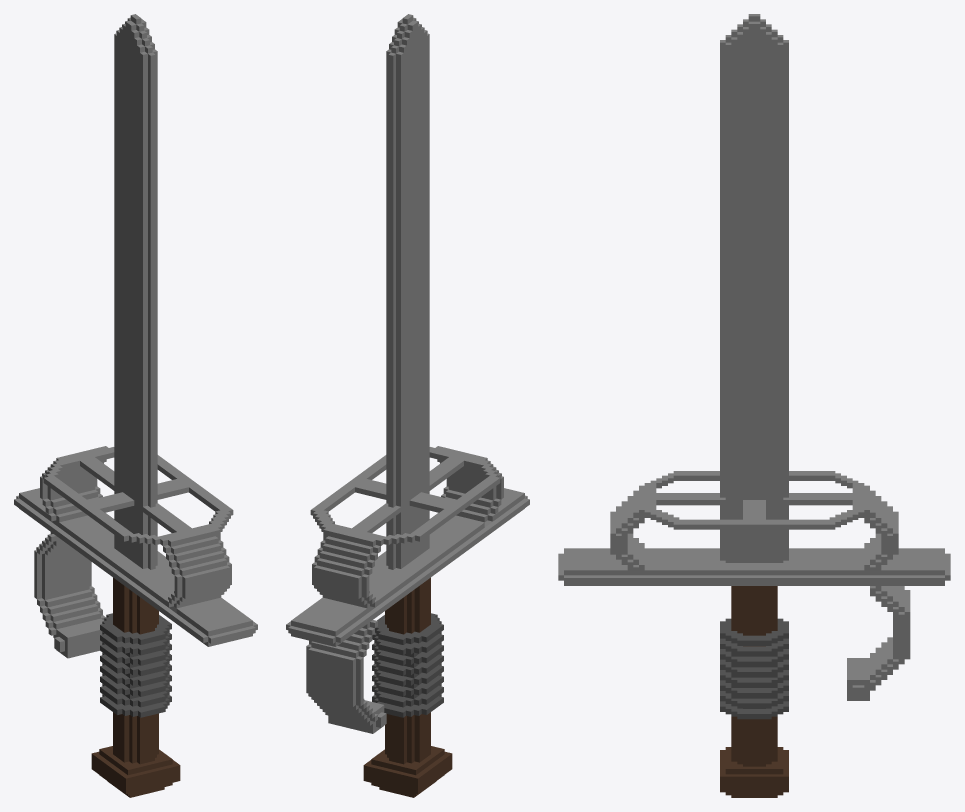
The model's file is rapira.obj.
The picture shows the model from 3 angles, left to right: view 1: azimuth 30°, elevation 25°; view 2: azimuth 150°, elevation 25°; view 3: azimuth 270°, elevation 25°; orthographic projection.
Bounding box in the file's own units: 2.2 × 14.8 × 6.8.
1 material, 1 textured.
